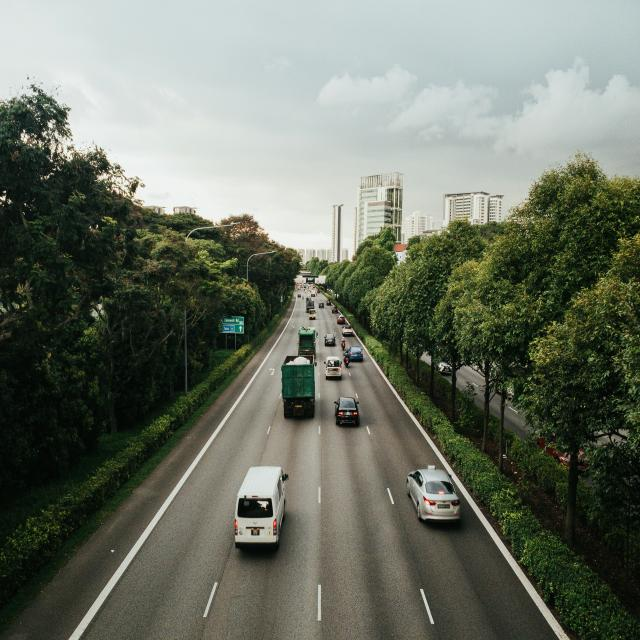Car: (406, 465, 461, 523), (333, 396, 360, 426), (324, 356, 342, 379), (324, 333, 335, 346), (342, 325, 354, 336), (337, 315, 346, 324), (308, 309, 316, 319)
MiniBus: (234, 465, 288, 550)
Traffic-sign: (220, 316, 245, 334)
Truck: (281, 355, 315, 419), (298, 326, 317, 366)
